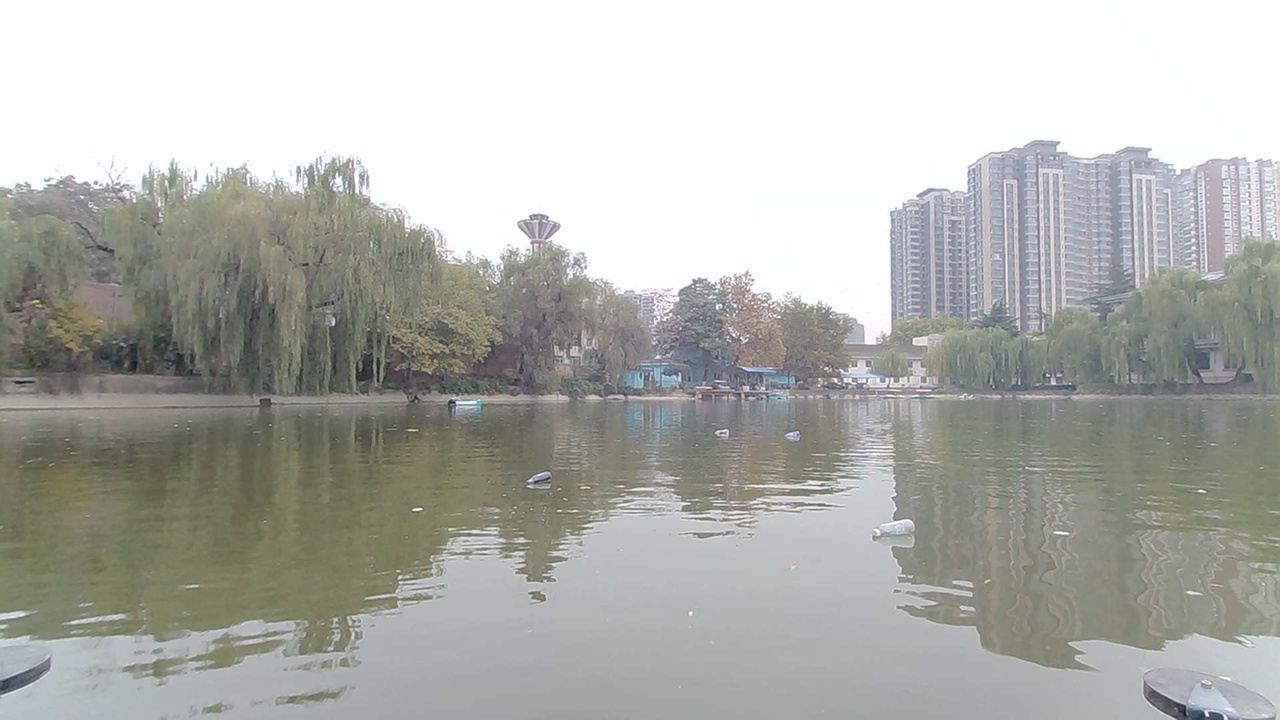bottle: (526, 471, 556, 493), (884, 520, 914, 541), (780, 426, 813, 443), (712, 419, 734, 438)
